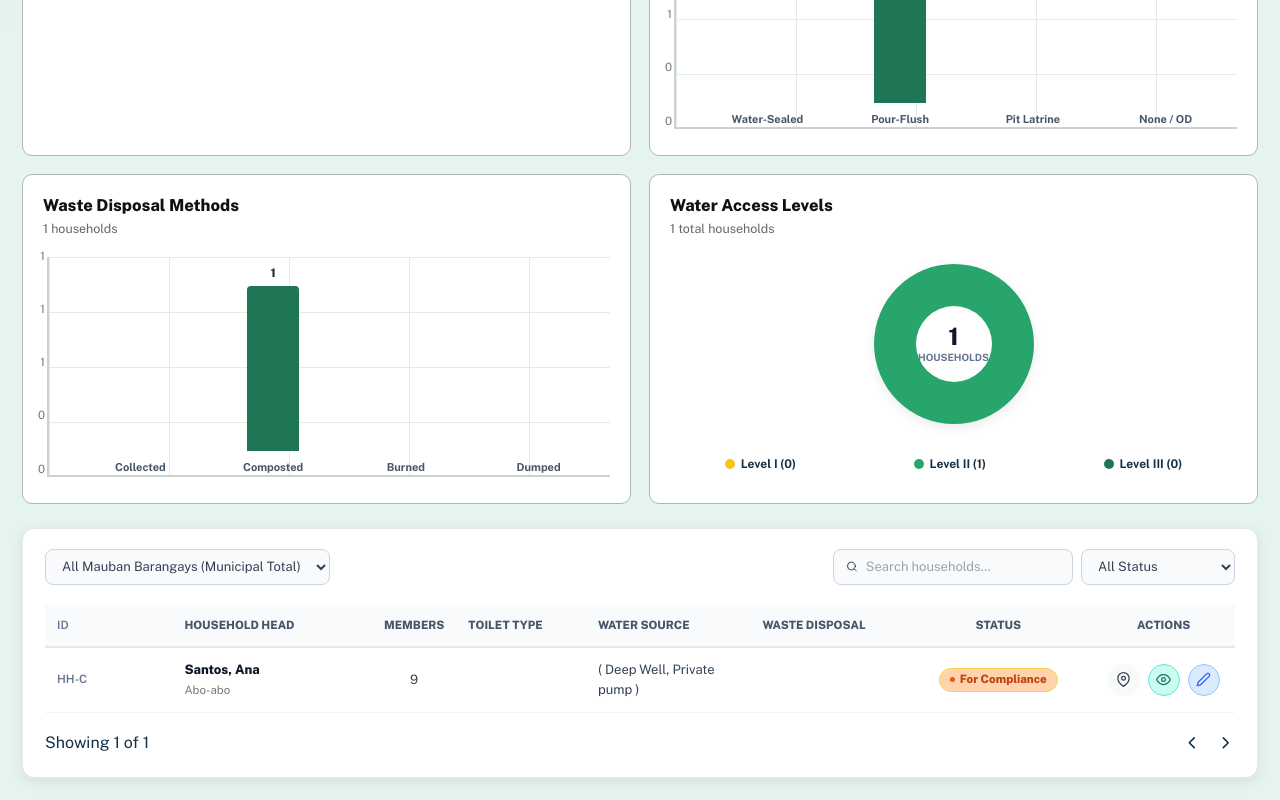
legacy pour_flush applicable transition requires replacement
(page scrolled)
Click the button titled "Edit Household Record": (1204, 680) [1188,664,1220,696]
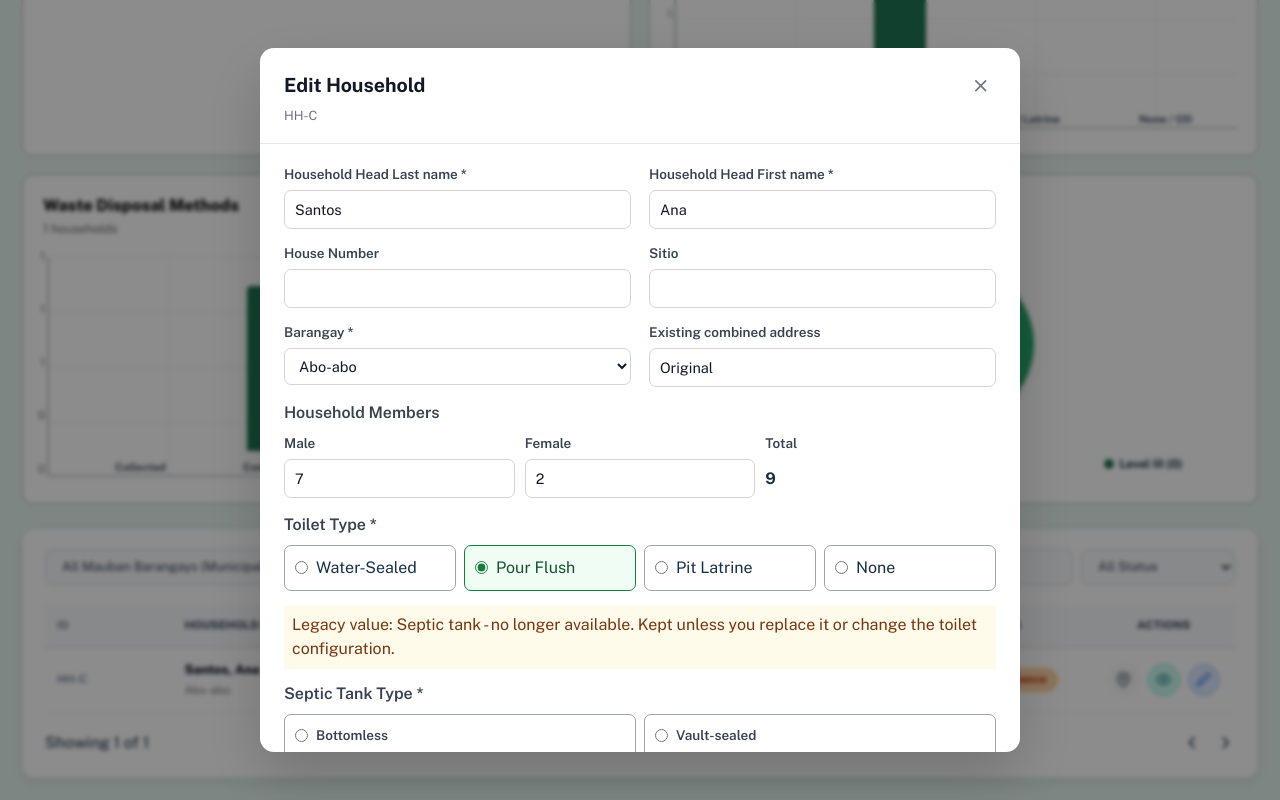
Click the radio button labelled "Water-Sealed": (302, 568) [295,561,308,574]
(page scrolled)
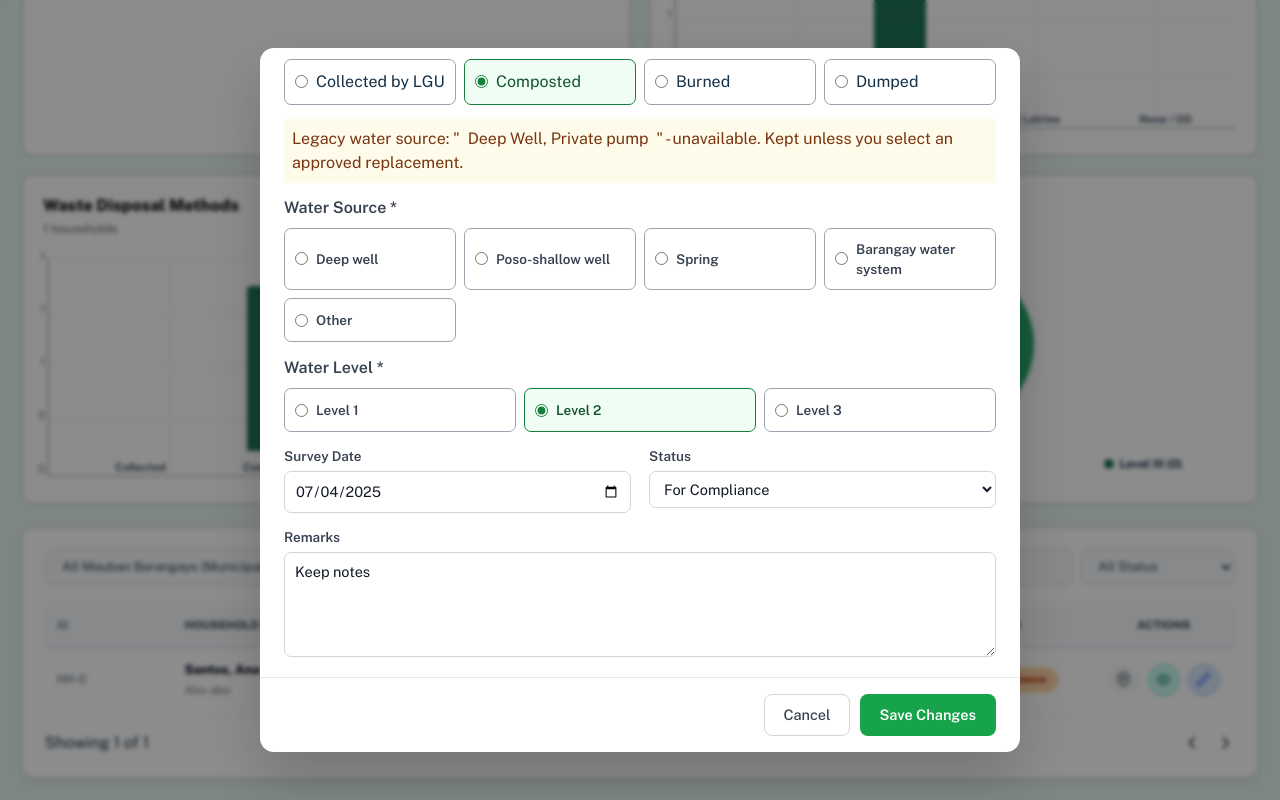
Click the button "Save Changes": (928, 715) [860,694,996,736]
(page scrolled)
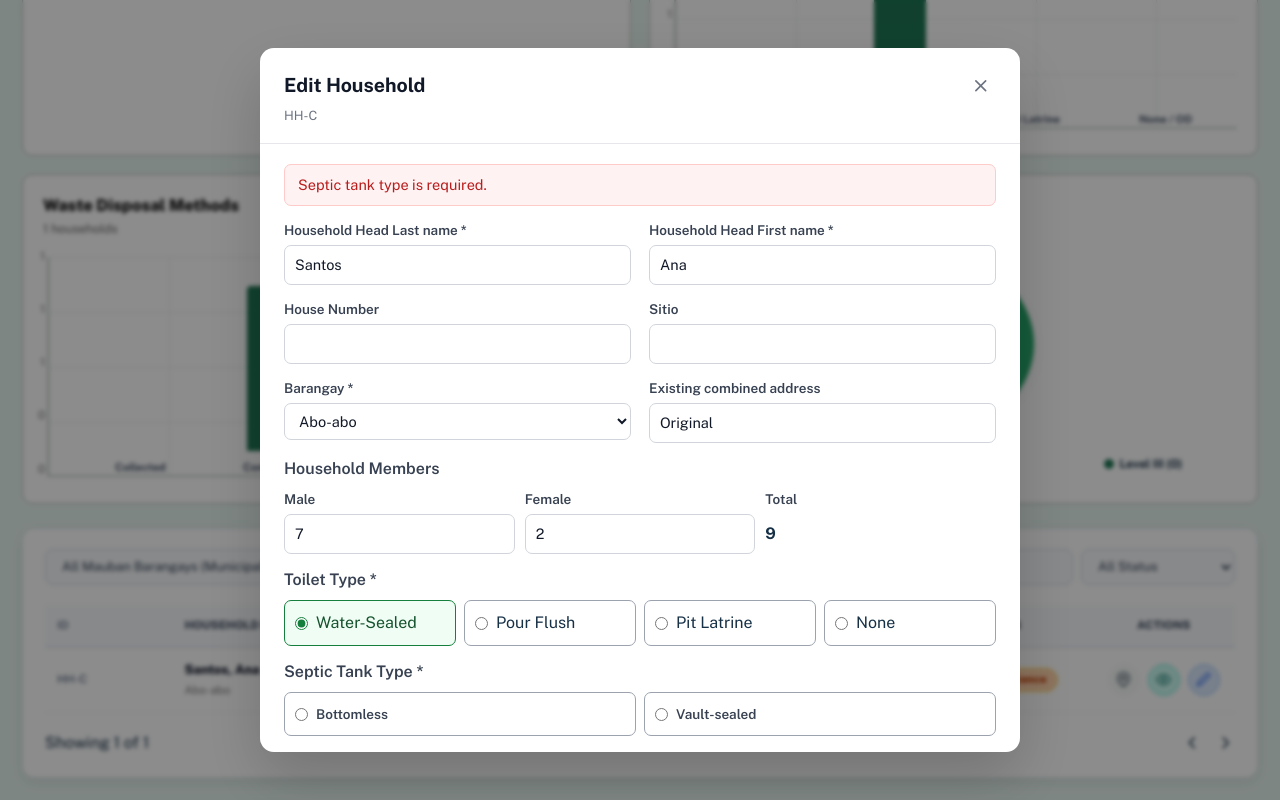
Now the text "Septic tank type is required." is shown, box [284,164,996,206]
